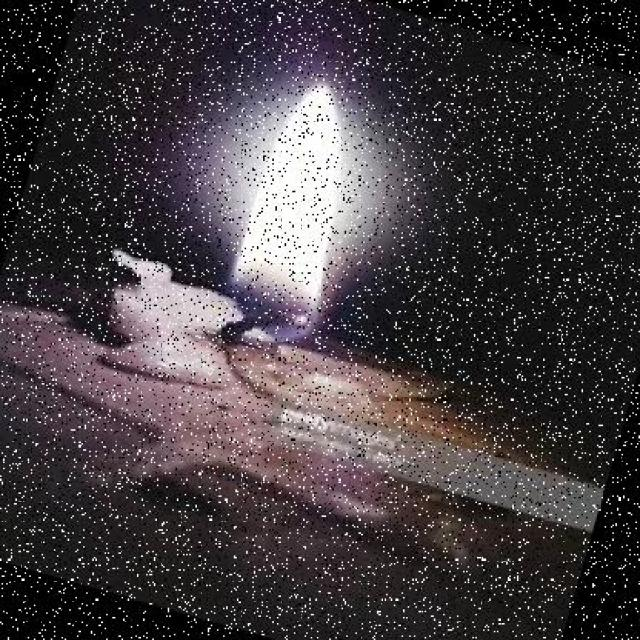fire: (205, 60, 408, 352)
